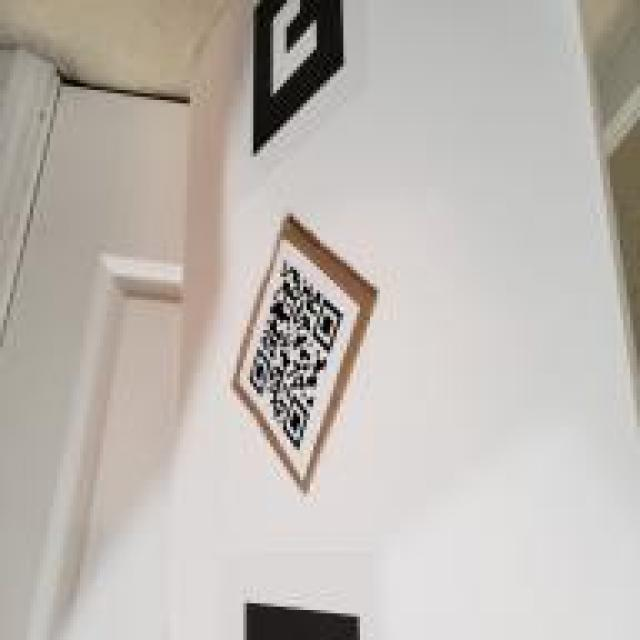qr_code: (247, 258, 344, 452)
